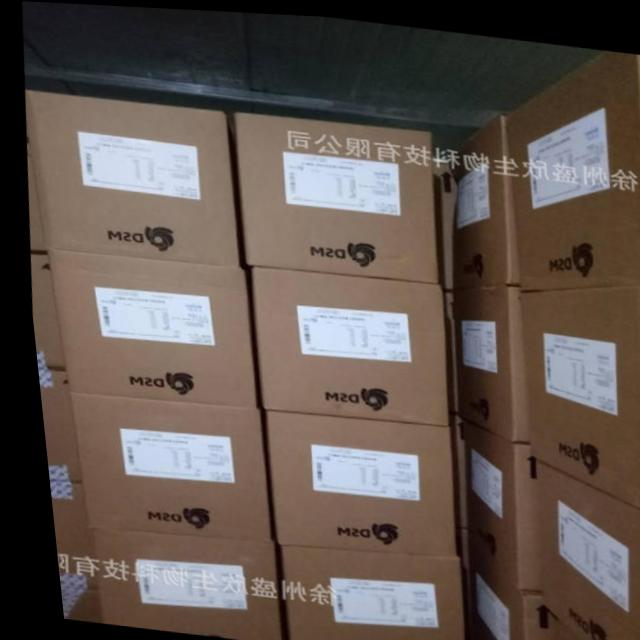box: (23, 89, 234, 263), (500, 43, 640, 287), (233, 110, 434, 278), (41, 249, 248, 404), (248, 261, 439, 420), (60, 390, 260, 540), (512, 278, 640, 507), (256, 406, 444, 551), (521, 450, 640, 640), (83, 530, 265, 640), (269, 540, 450, 640), (435, 110, 512, 287), (451, 418, 527, 586), (443, 279, 518, 440), (456, 548, 546, 640), (39, 480, 86, 589), (30, 368, 71, 482), (25, 252, 54, 369), (48, 587, 89, 623), (545, 615, 571, 640)
